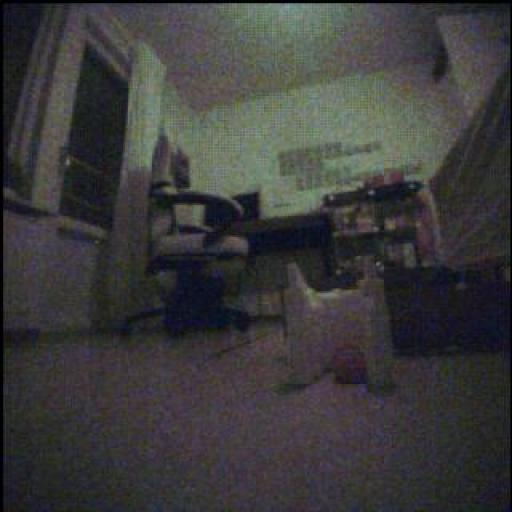basket: (334, 347, 367, 385)
